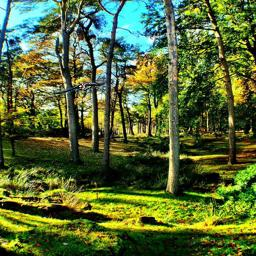Swallow: (53, 80, 107, 94)
